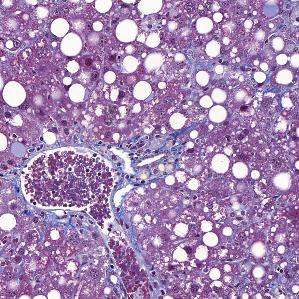fibrosis: (113, 131, 189, 192)
